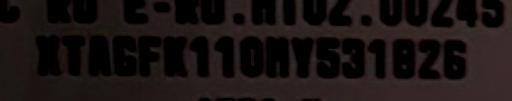letter: (288, 36, 314, 81), (316, 36, 342, 81), (34, 34, 62, 75), (112, 34, 140, 75), (86, 34, 112, 77), (162, 34, 188, 77), (340, 36, 366, 79), (416, 36, 442, 79), (266, 34, 290, 79), (238, 36, 264, 77), (62, 34, 86, 77), (138, 34, 162, 77), (188, 34, 210, 77), (214, 34, 236, 77), (393, 36, 415, 79), (443, 36, 465, 79), (367, 38, 387, 79)
